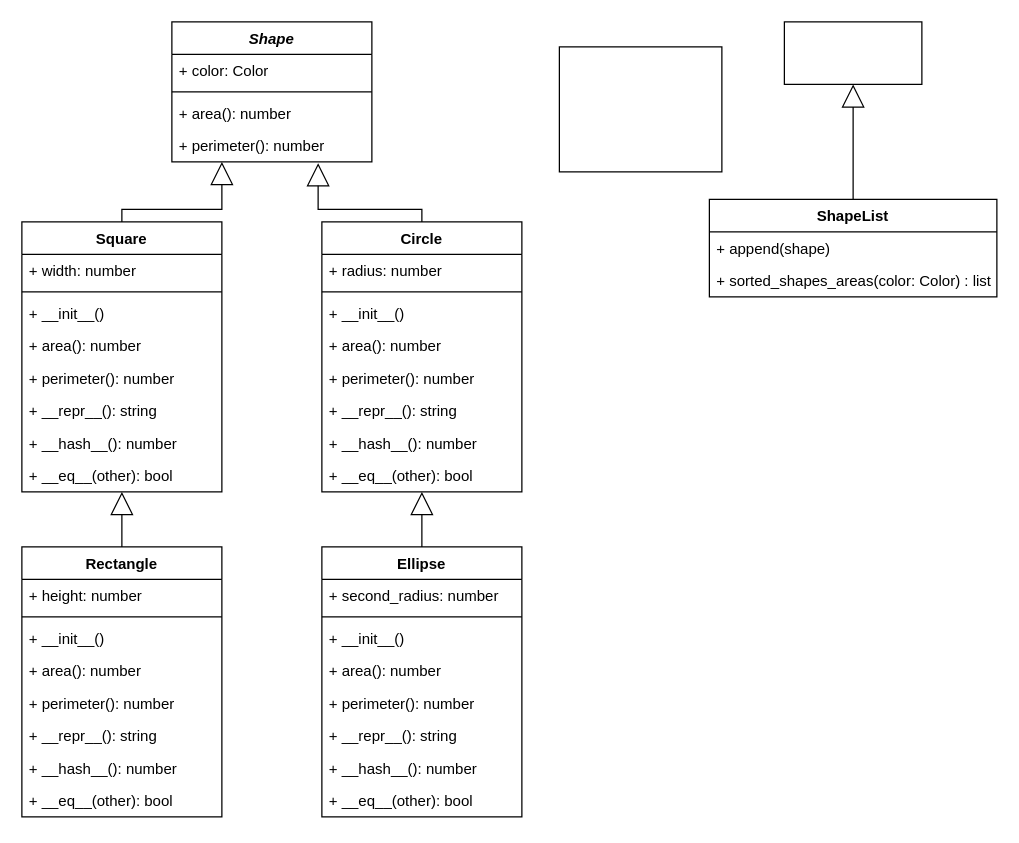
This 1019x843 diagram has some shape labels left out. The centre of each missing label's shape, as x and y in pixels:
"<<enumeration>> Color + RED + GREEN + BLUE" belongs at (x=640, y=109).
"List" belongs at (x=852, y=52).
